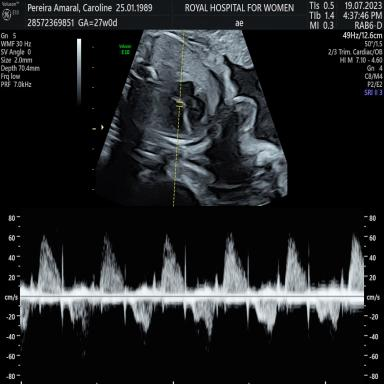Ultrasound-Waves: (26, 216, 362, 384)
